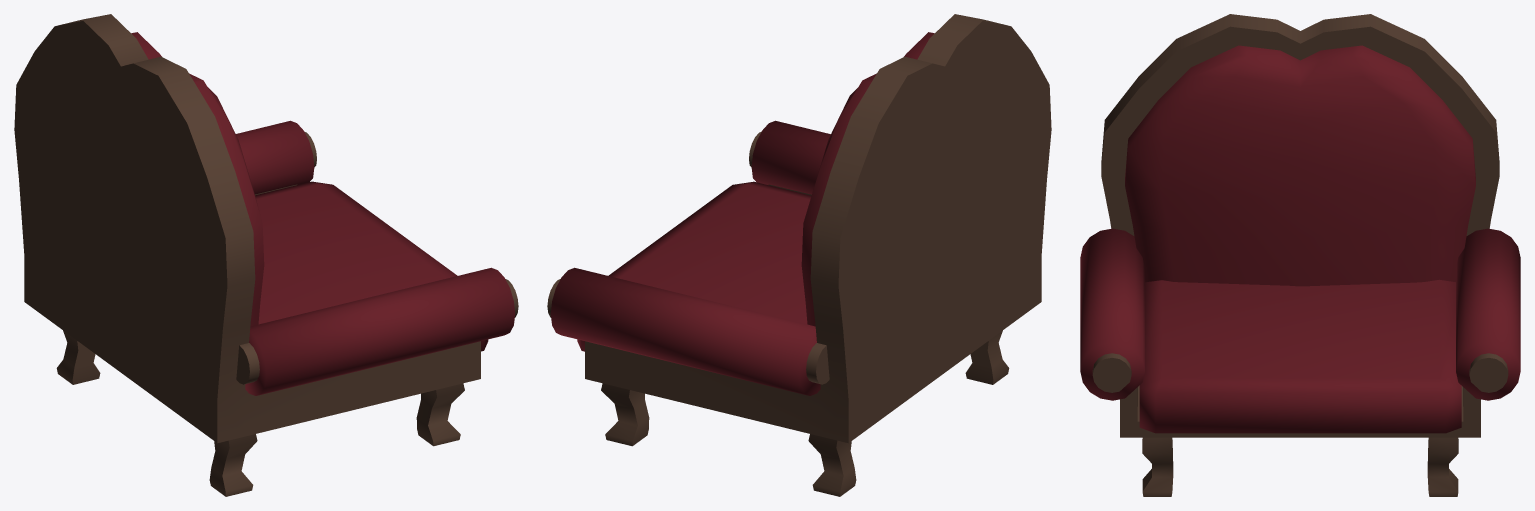
The model's file is S_Armchair.fbx.
3 views of the same model, side by side, from view 1: azimuth 30°, elevation 25°; view 2: azimuth 150°, elevation 25°; view 3: azimuth 270°, elevation 25° (orthographic). The views are drawn at different scales.
Parts seen in each view (by area): view 1: S_Armchair; view 2: S_Armchair; view 3: S_Armchair.
Part boxes in pixels (<box>): S_Armchair: <box>14,14,518,496</box>; S_Armchair: <box>547,14,1051,496</box>; S_Armchair: <box>1080,14,1520,496</box>.
Bounding box in the file's own units: 102 × 132 × 143.
